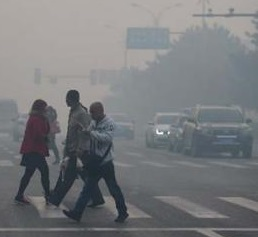person: (60, 98, 135, 226), (50, 88, 108, 210), (14, 97, 58, 209), (45, 105, 62, 166)
